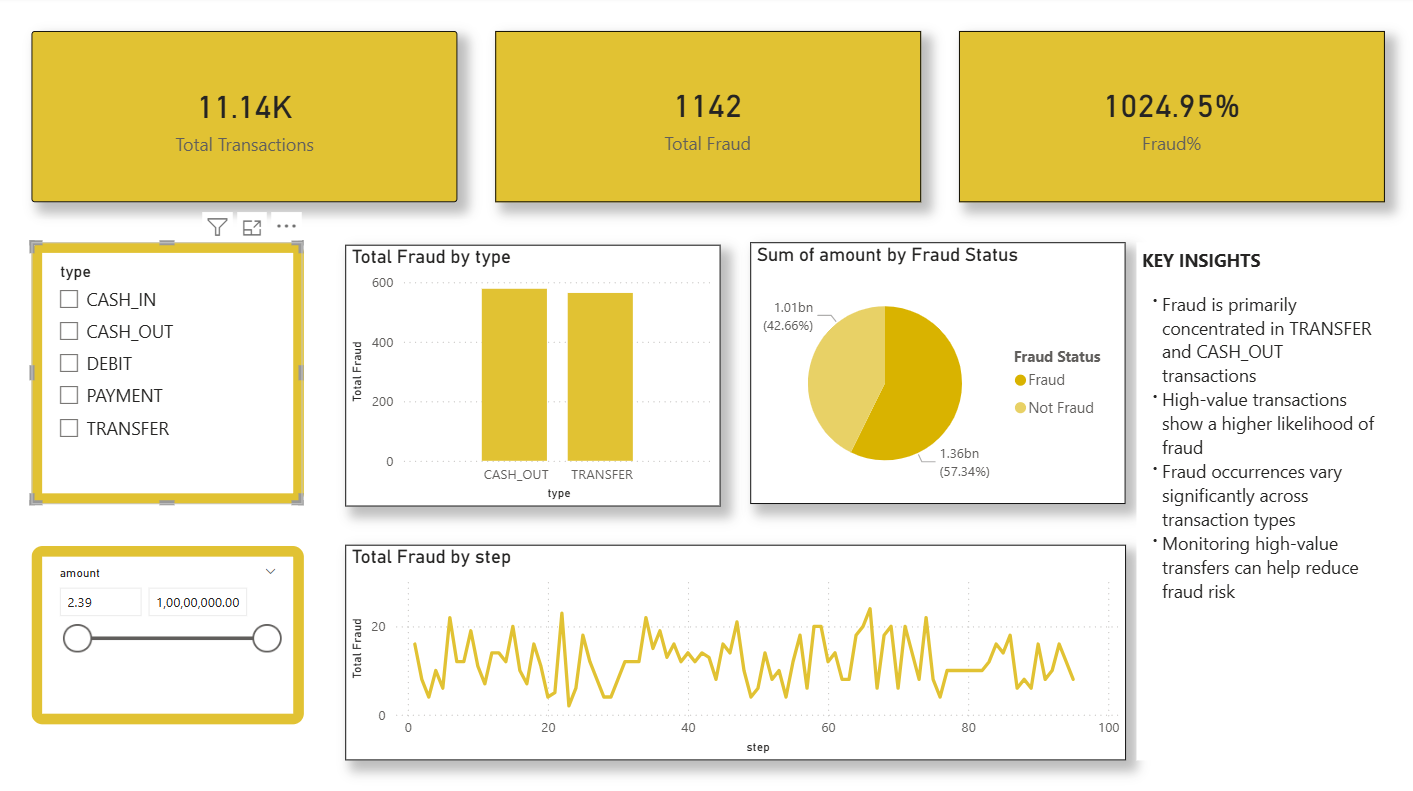

This screenshot's page, from the dashboard's own definition file:
{"tool":"powerbi","page":{"name":"Page 1","canvas":[1280,720],"ordinal":0},"visuals":[{"type":"card","fields":{"Values":["Fraud_Analysis_Dataset (3).Total Transactions"]},"box":[29.3,31.8,384,154.1],"z":0},{"type":"card","fields":{"Values":["Fraud_Analysis_Dataset (3).Total Fraud"]},"box":[447.6,31.8,384,154.1],"z":1000},{"type":"card","fields":{"Values":["Fraud_Analysis_Dataset (3).Fraud%"]},"box":[865.8,31.8,384,154.1],"z":2000},{"type":"columnChart","fields":{"Category":["Fraud_Analysis_Dataset (3).type"],"Y":["Fraud_Analysis_Dataset (3).Total Fraud"]},"box":[311.8,223.8,338.7,236],"z":3000},{"type":"lineChart","fields":{"Category":["Fraud_Analysis_Dataset (3).step"],"Y":["Fraud_Analysis_Dataset (3).Total Fraud"]},"box":[311.8,495.2,704.4,194.4],"z":5000},{"type":"slicer","fields":{"Values":["Fraud_Analysis_Dataset (3).type"]},"box":[28.8,222.3,245.6,236],"z":6000},{"type":"slicer","fields":{"Values":["Fraud_Analysis_Dataset (3).amount"]},"box":[28.8,495.4,245.6,160.5],"z":7000},{"type":"pieChart","fields":{"Category":["Fraud_Analysis_Dataset.Fraud Status"],"Y":["Sum(Fraud_Analysis_Dataset.amount)"]},"box":[677.4,222.6,338.7,236],"z":7001},{"type":"textbox","box":[1026,222.6,223.8,467.1],"z":7002}]}

Visuals, with their boxes in screenshot pixels (x1, y1, x2, y2), scaled from the page's 1280x720 canvas onto the 1413x791 screenshot:
card - Fraud_Analysis_Dataset (3).Total Transactions: 32 35 456 204
card - Fraud_Analysis_Dataset (3).Total Fraud: 494 35 918 204
card - Fraud_Analysis_Dataset (3).Fraud%: 956 35 1380 204
columnChart - Fraud_Analysis_Dataset (3).type x Fraud_Analysis_Dataset (3).Total Fraud: 344 246 718 505
lineChart - Fraud_Analysis_Dataset (3).step x Fraud_Analysis_Dataset (3).Total Fraud: 344 544 1122 758
slicer - Fraud_Analysis_Dataset (3).type: 32 244 303 503
slicer - Fraud_Analysis_Dataset (3).amount: 32 544 303 721
pieChart - Fraud_Analysis_Dataset.Fraud Status x Sum(Fraud_Analysis_Dataset.amount): 748 245 1122 504
textbox: 1133 245 1380 758
